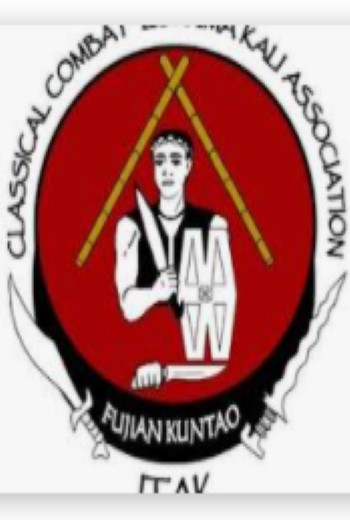baston_v: (255, 249, 277, 269), (70, 252, 87, 275), (154, 50, 172, 70), (174, 52, 194, 70)
